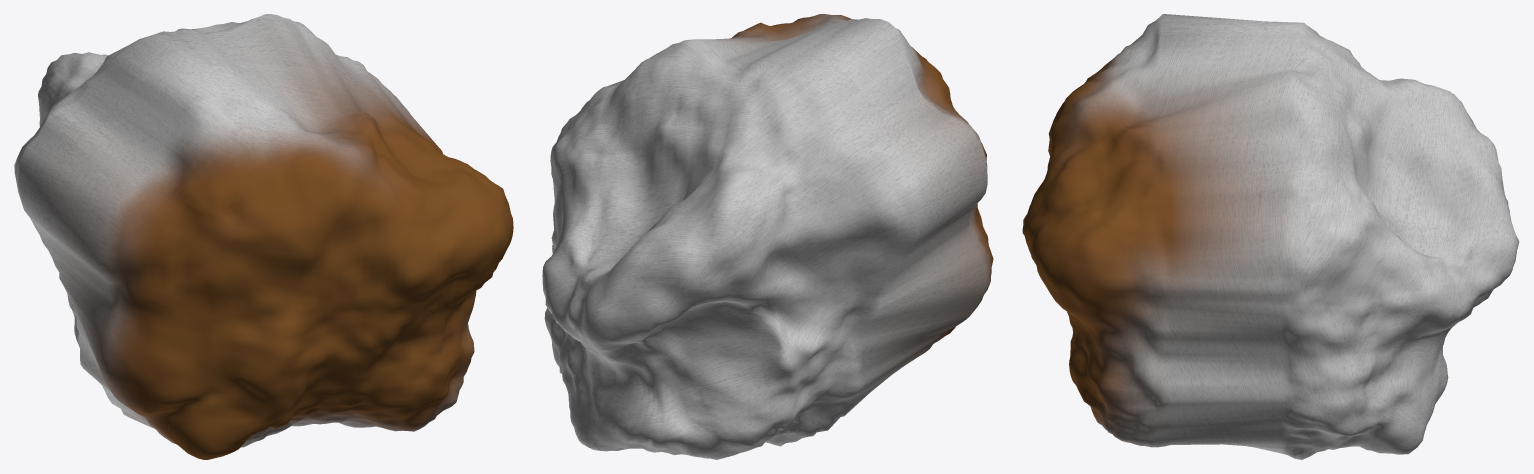
Rendered from Cotton Medicine.fbx.
3 renders of one model, left to right at view 1: azimuth 30°, elevation 25°; view 2: azimuth 150°, elevation 25°; view 3: azimuth 270°, elevation 25°, orthographic. The views are drawn at different scales.
Visible parts, largest first — view 1: Cotton; view 2: Cotton; view 3: Cotton.
Part boxes in pixels (box(x1,y1,x2,y2)): Cotton: box(14, 14, 513, 459); Cotton: box(542, 14, 993, 459); Cotton: box(1022, 14, 1519, 459).
Bounding box in the file's own units: 1.94 × 1.93 × 2.36.
